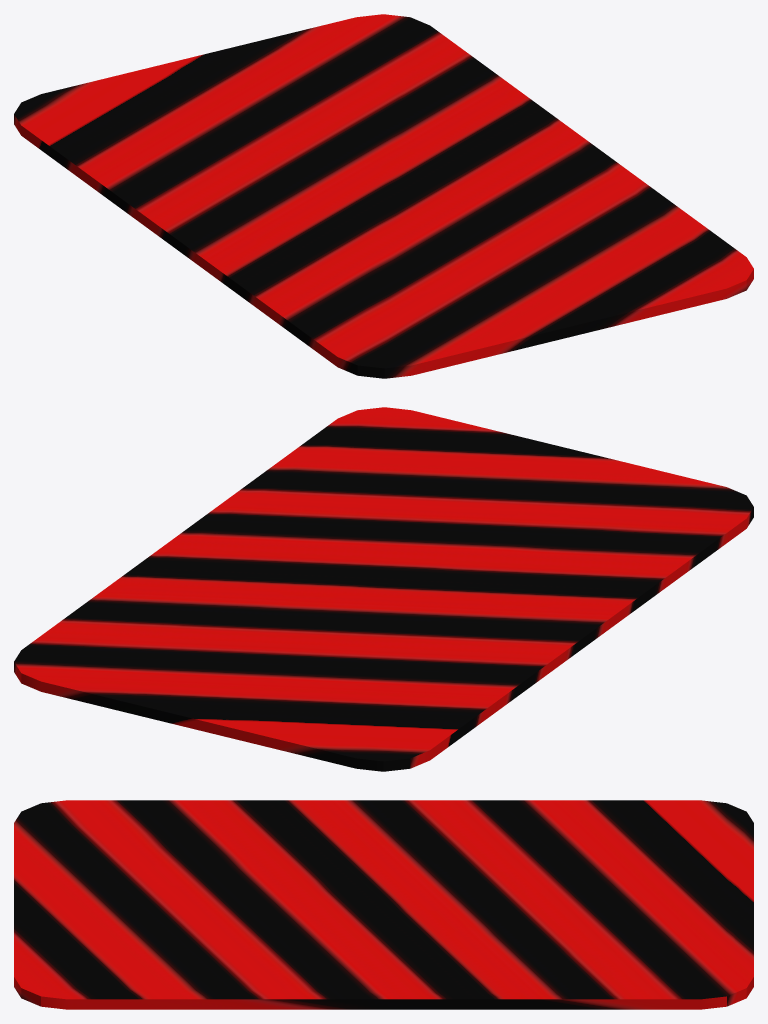
File: Card.fbx
The picture shows the model from 3 angles, top to bottom: view 1: azimuth 30°, elevation 25°; view 2: azimuth 150°, elevation 25°; view 3: azimuth 270°, elevation 25°; orthographic projection.
Visible parts, largest first — view 1: Keycard; view 2: Keycard; view 3: Keycard.
Part boxes in pixels (box(x1,y1,x2,y2)): Keycard: box(14, 14, 753, 378); Keycard: box(14, 407, 753, 771); Keycard: box(14, 800, 753, 1009).
Bounding box in the file's own units: 4.59 × 0.1104 × 7.2.
